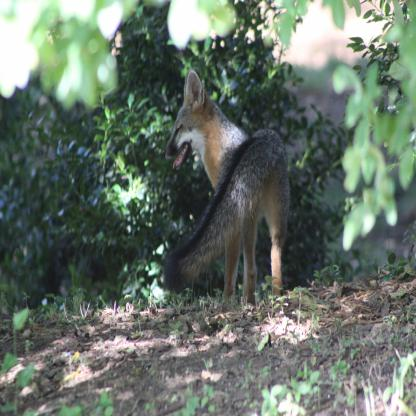zorro: (156, 68, 298, 310)
